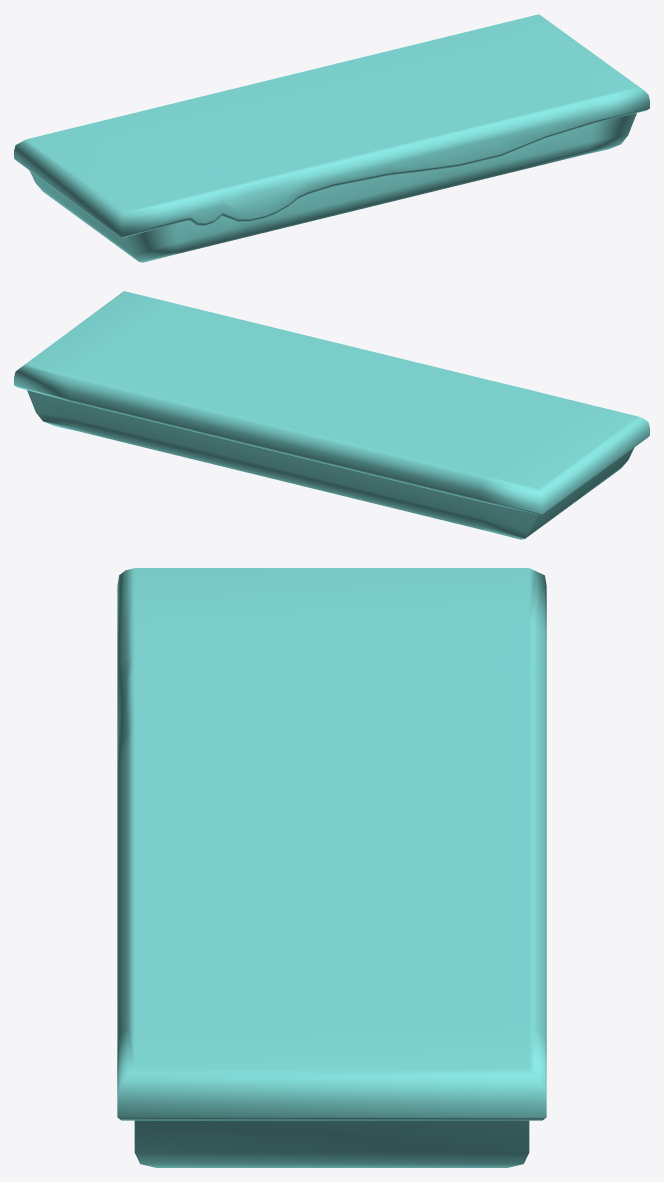
Rendered from Ice_Ground_001.fbx.
3 renders of one model, top to bottom at view 1: azimuth 30°, elevation 25°; view 2: azimuth 150°, elevation 25°; view 3: azimuth 270°, elevation 25°, orthographic. The views are drawn at different scales.
Visible parts, largest first — view 1: pCube1; view 2: pCube1; view 3: pCube1.
Part boxes in pixels (x1=…): pCube1: x1=14, y1=14, x2=649, y2=262; pCube1: x1=14, y1=291, x2=649, y2=539; pCube1: x1=117, y1=568, x2=546, y2=1167.
Size of the model in its own units: 12.37 by 1.41 by 4.35.
